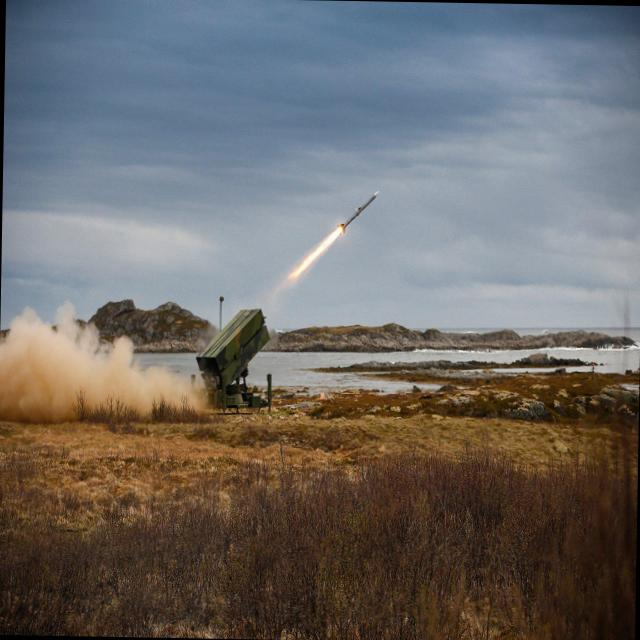rocket: (293, 181, 378, 285)
